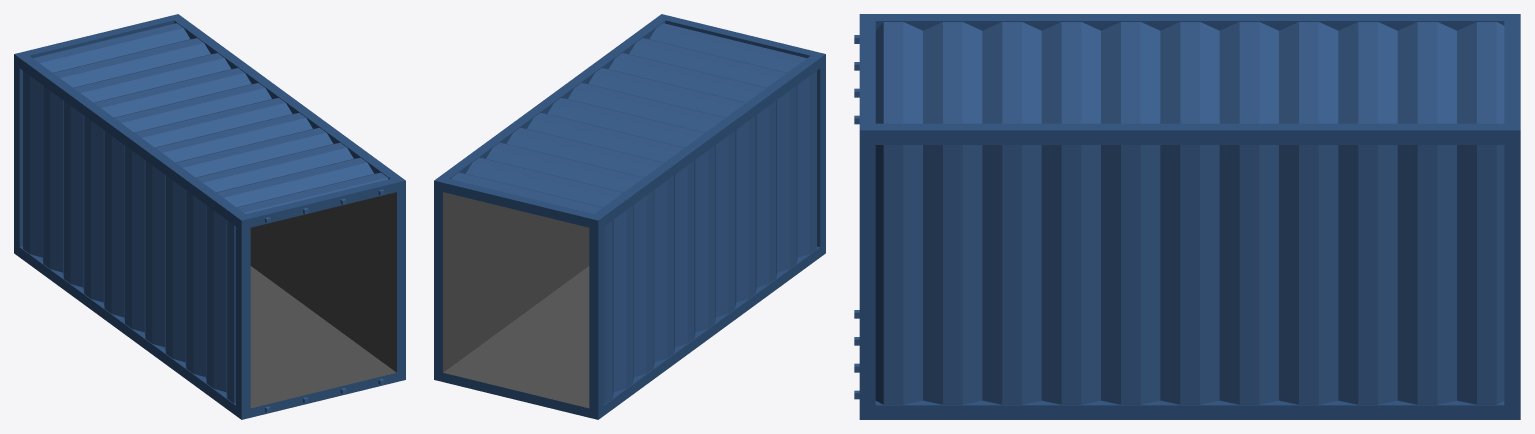
Rendered from ShippingContainer_03.fbx.
3 renders of one model, left to right at view 1: azimuth 30°, elevation 25°; view 2: azimuth 150°, elevation 25°; view 3: azimuth 270°, elevation 25°, orthographic. The views are drawn at different scales.
Parts seen in each view (by area): view 1: ShippingContainer_03; view 2: ShippingContainer_03; view 3: ShippingContainer_03.
Part boxes in pixels (x1,y1,x2,y2): ShippingContainer_03: [14, 14, 405, 419]; ShippingContainer_03: [434, 14, 825, 419]; ShippingContainer_03: [854, 14, 1520, 419].
Bounding box in the file's own units: 250 × 290 × 605.
